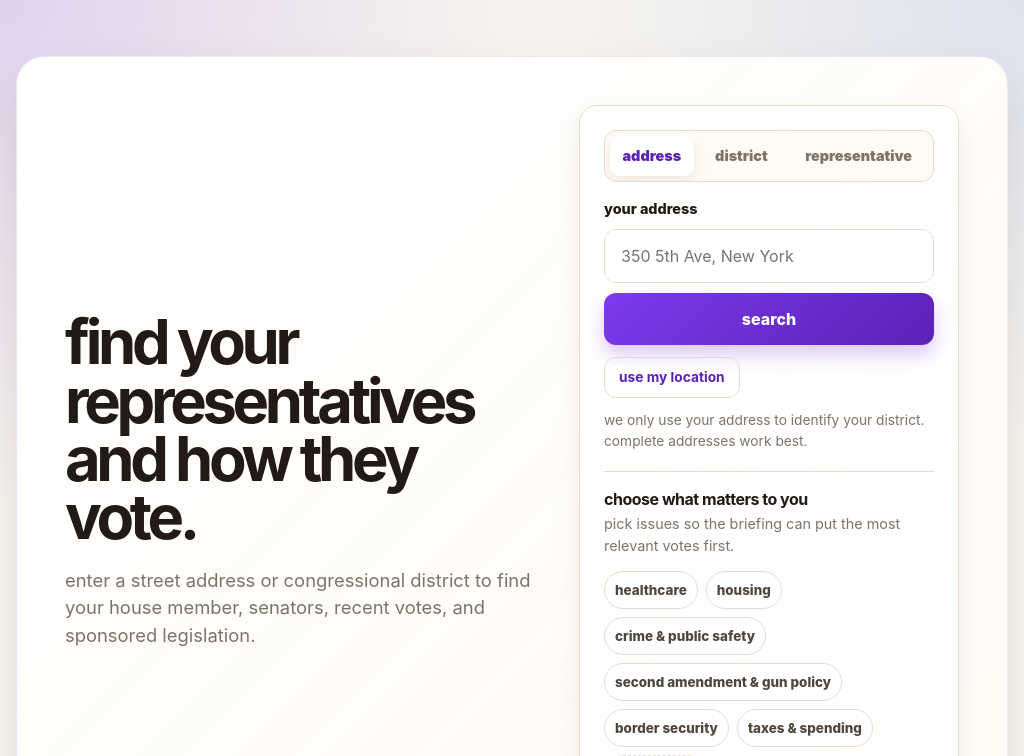
Test: App › renders representatives from the API
Type "350 5th Ave New York, NY 10001" into the field labelled "your address" at (769, 256), box [604, 229, 934, 283]
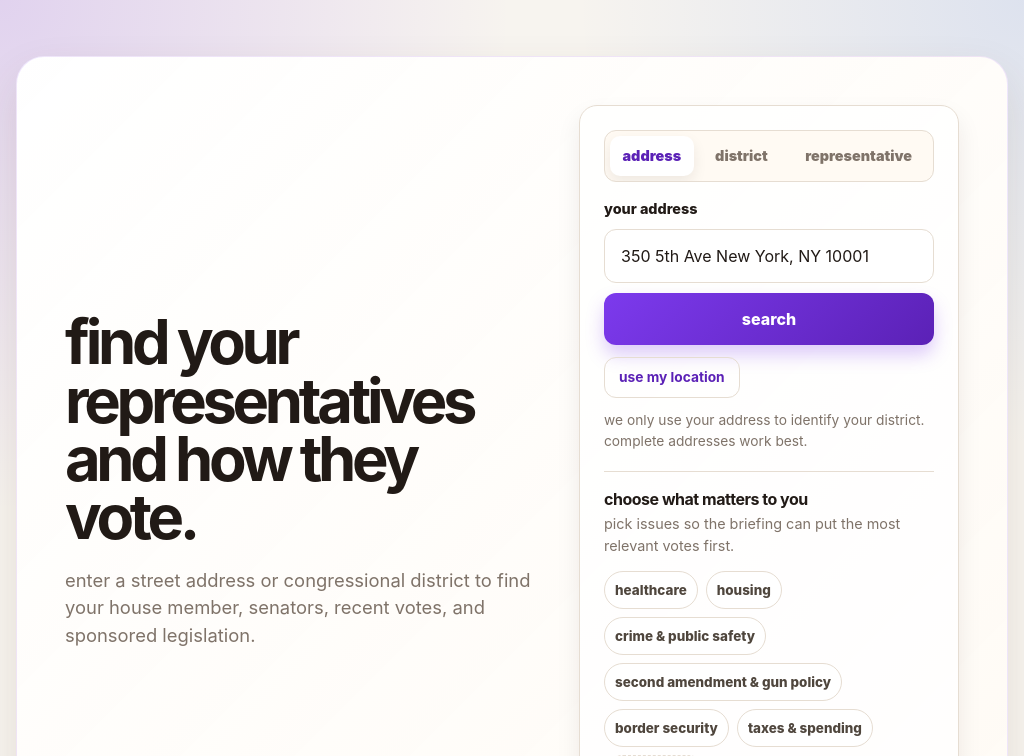
Click the button "search" at (769, 319), box [604, 293, 934, 345]
(page scrolled)
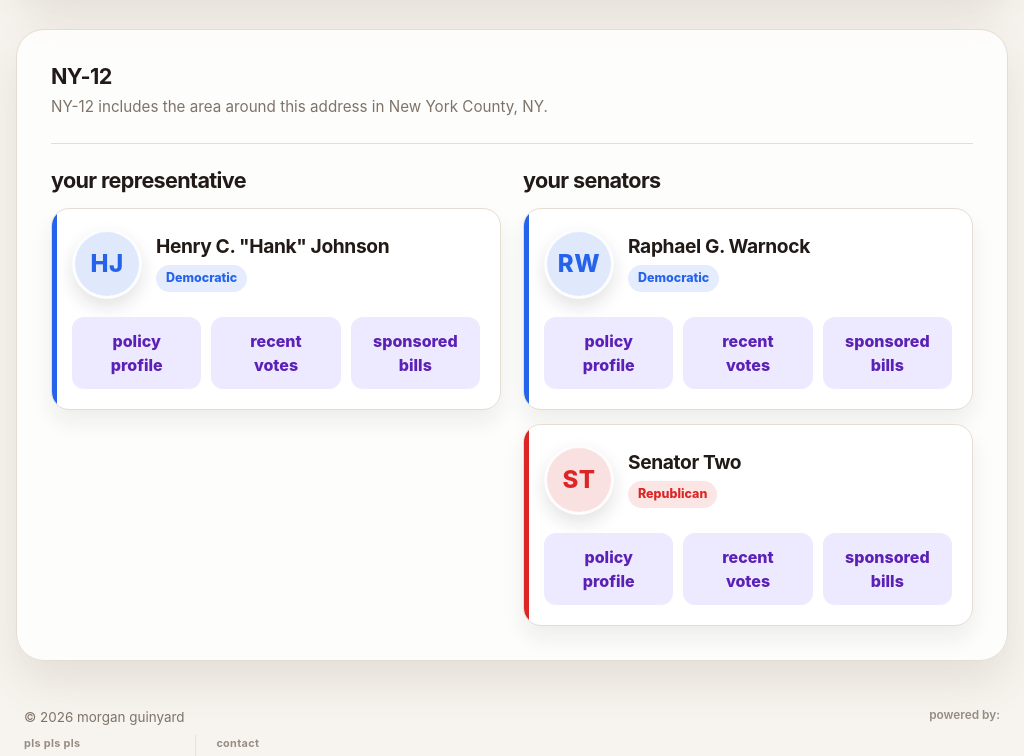
Expected: the heading "Henry C. \"Hank\" Johnson" is shown, [156, 235, 389, 257]
Expected: the heading "Raphael G. Warnock" is shown, [628, 235, 810, 257]
Expected: the heading "Senator Two" is shown, [628, 451, 741, 473]
